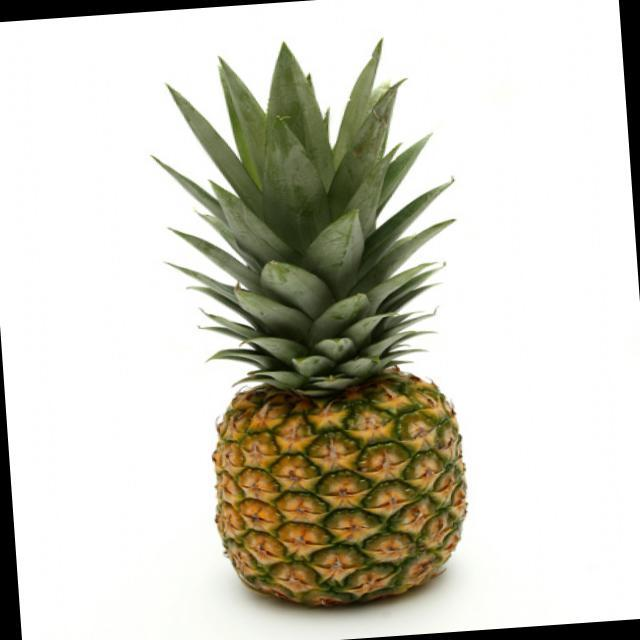PINEAPLE: (183, 45, 476, 619)
